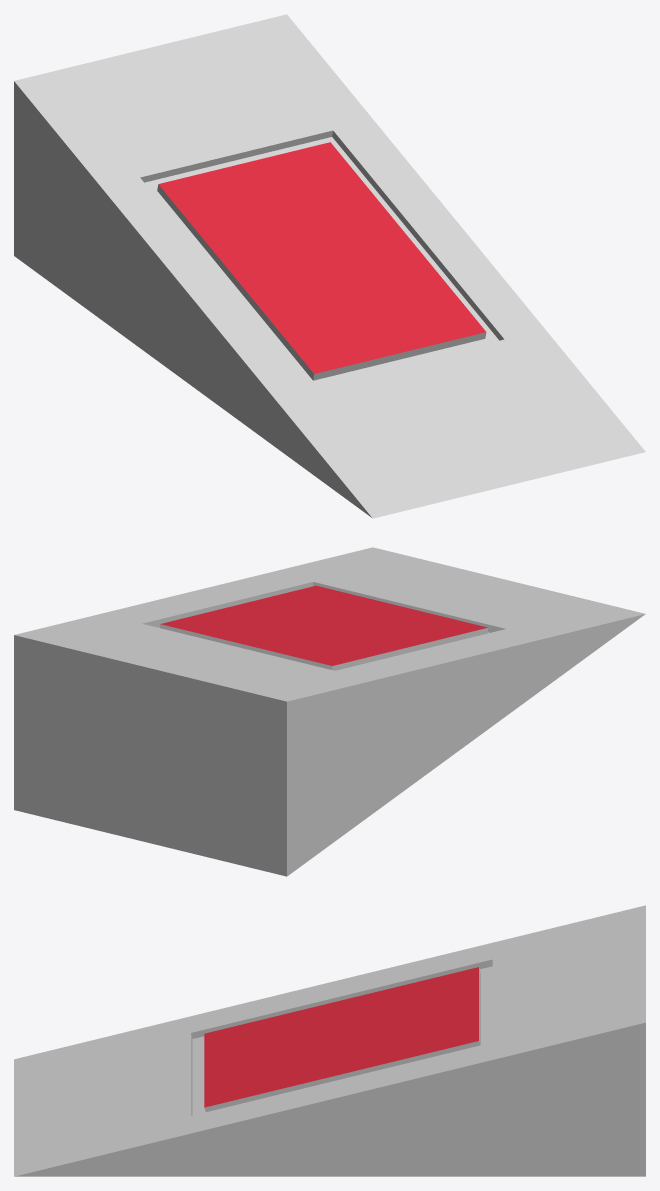
3 renders of one model, top to bottom at view 1: azimuth 30°, elevation 25°; view 2: azimuth 150°, elevation 25°; view 3: azimuth 270°, elevation 25°, orthographic. The views are drawn at different scales.
Visible parts, largest first — view 1: Cube.001; view 2: Cube.001; view 3: Cube.001.
Boxes of the visible parts, x1,y1,x2,y2 form: Cube.001: (14,14,645,518); Cube.001: (14,547,645,876); Cube.001: (14,905,645,1176).
Size of the model in its own units: 540 by 331 by 1230.
